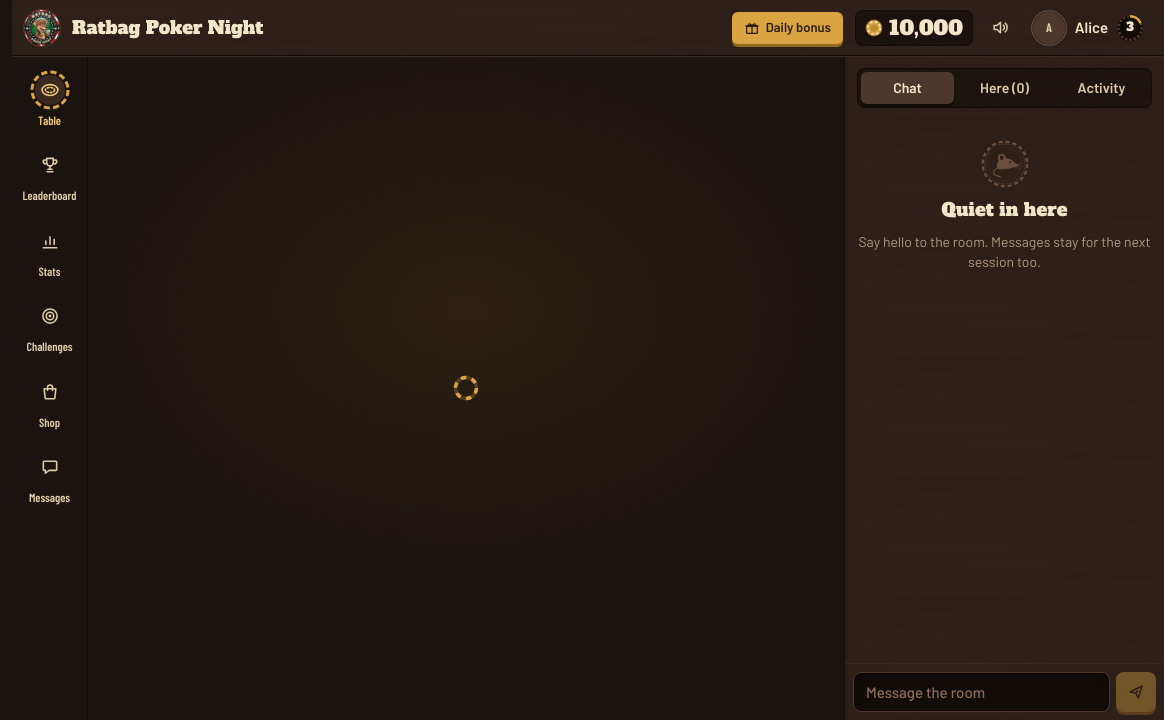
Test: Shell › shows bankroll, and claims the daily bonus with a toast
Click the button with aria-label "Claim daily bonus".
click(787, 28)  # box 732,12 -> 843,44
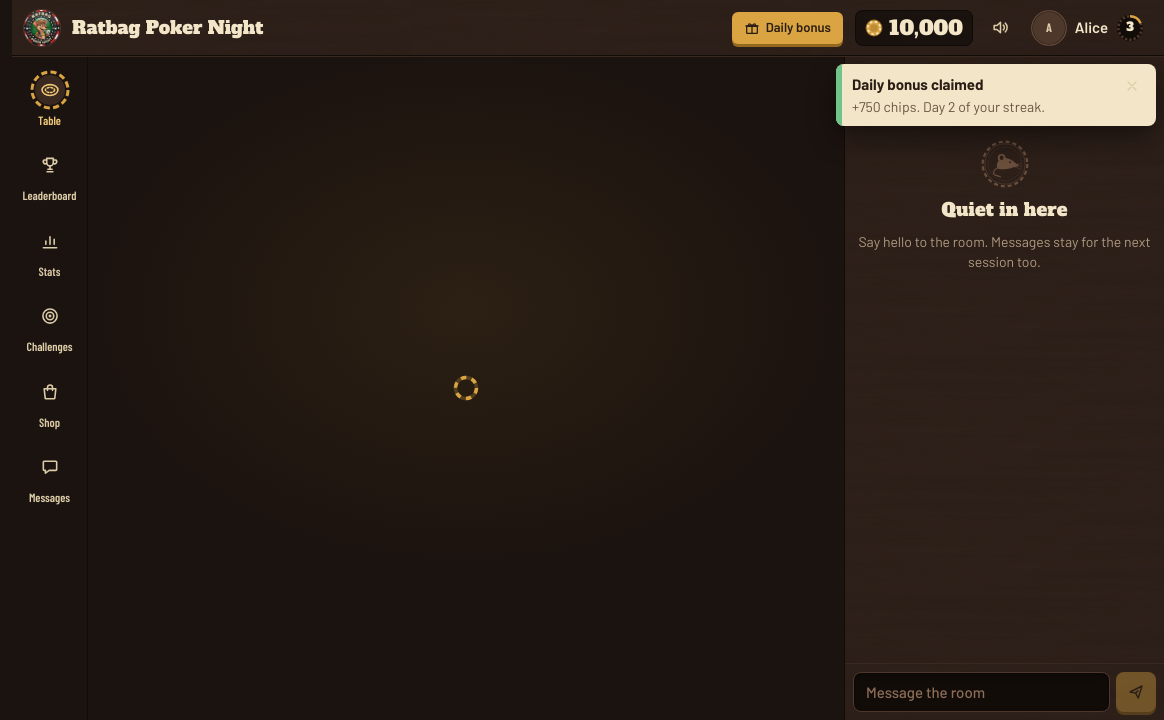
Now the text "Daily bonus claimed" is shown, box 852,75 -> 984,93
